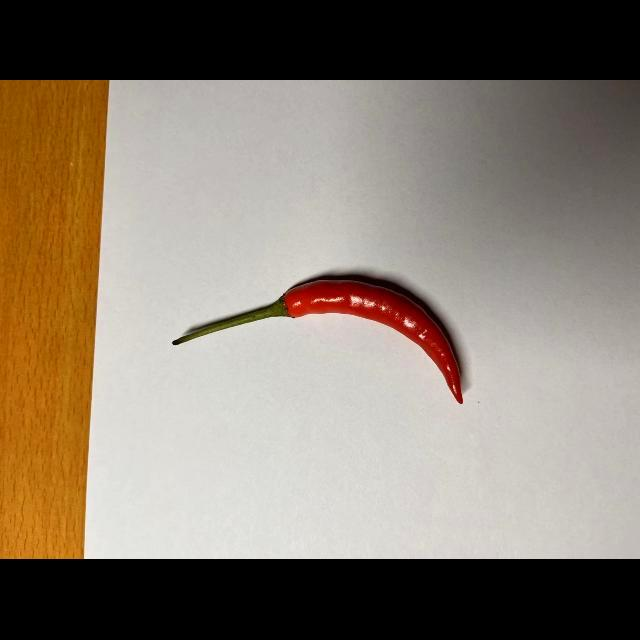chili_pepper: (170, 267, 470, 410)
